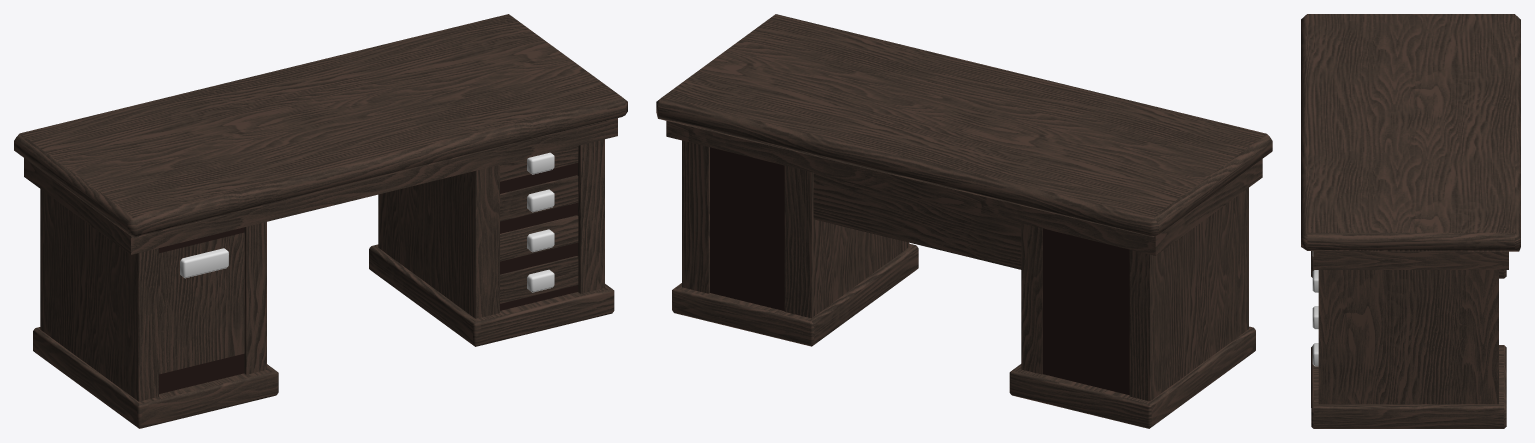
Rendered from work_table_012.fbx.
The picture shows the model from 3 angles, left to right: view 1: azimuth 30°, elevation 25°; view 2: azimuth 150°, elevation 25°; view 3: azimuth 270°, elevation 25°; orthographic projection. The views are drawn at different scales.
Visible parts, largest first — view 1: work_table_012; view 2: work_table_012; view 3: work_table_012.
Boxes of the visible parts, x1,y1,x2,y2 form: work_table_012: (14,14,627,428); work_table_012: (656,14,1272,428); work_table_012: (1301,14,1520,428).
Size of the model in its own units: 232 by 96.56 by 96.53.
